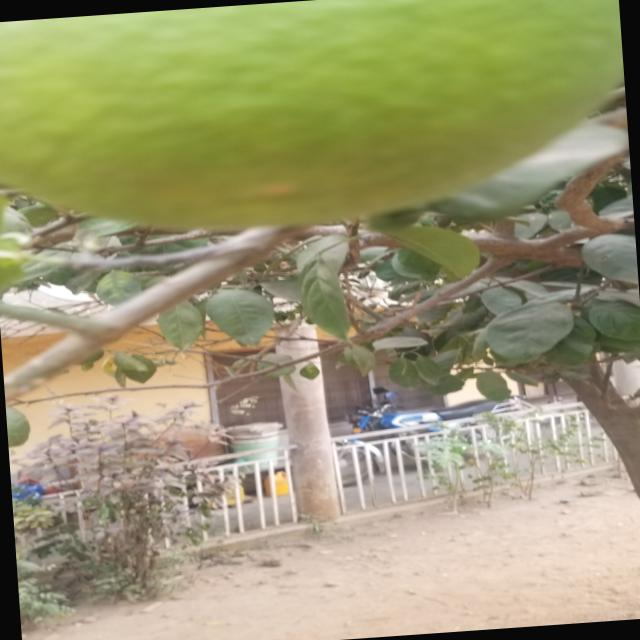Unripe: (0, 0, 633, 254)
